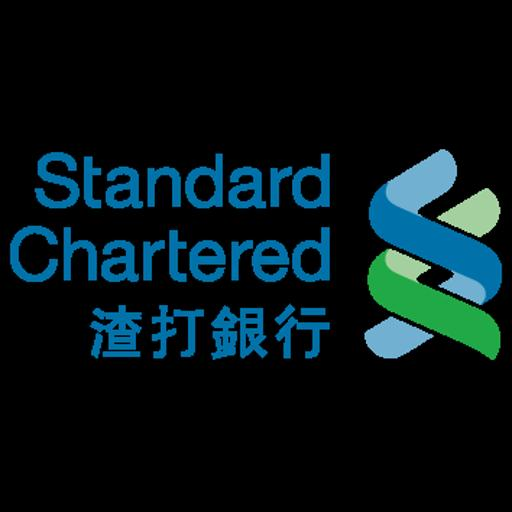Standard Chartered Bank: (0, 142, 512, 370)
